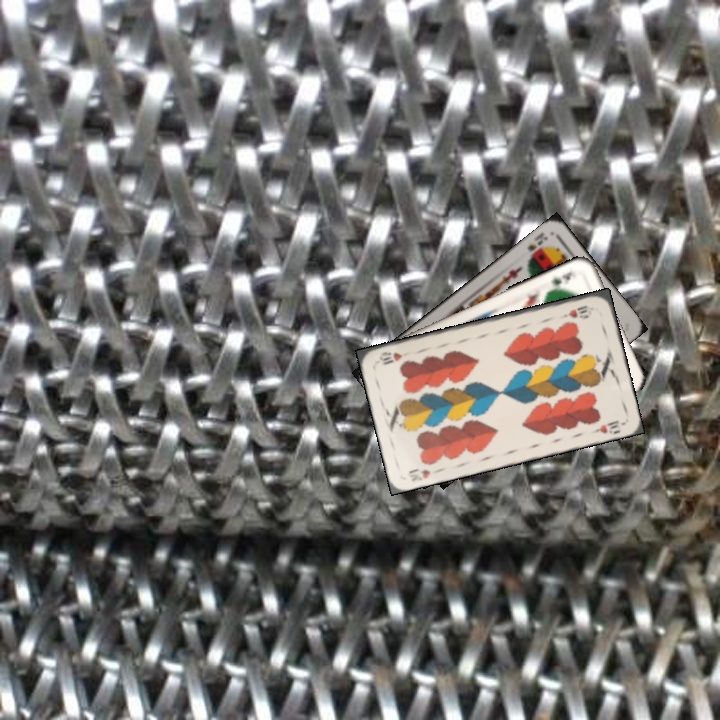GK: (546, 268, 579, 294)
H10: (557, 301, 590, 321), (404, 464, 433, 484)
SK: (523, 228, 551, 254)
